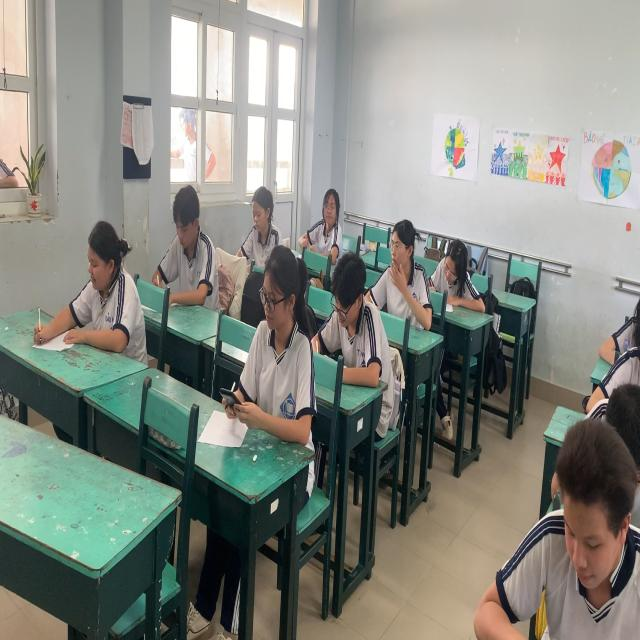not_cheating: (535, 425, 631, 639), (259, 235, 313, 449), (64, 222, 144, 366), (160, 187, 220, 304), (326, 245, 378, 380), (386, 221, 428, 332), (434, 239, 471, 307), (310, 187, 344, 249), (244, 187, 278, 245)
